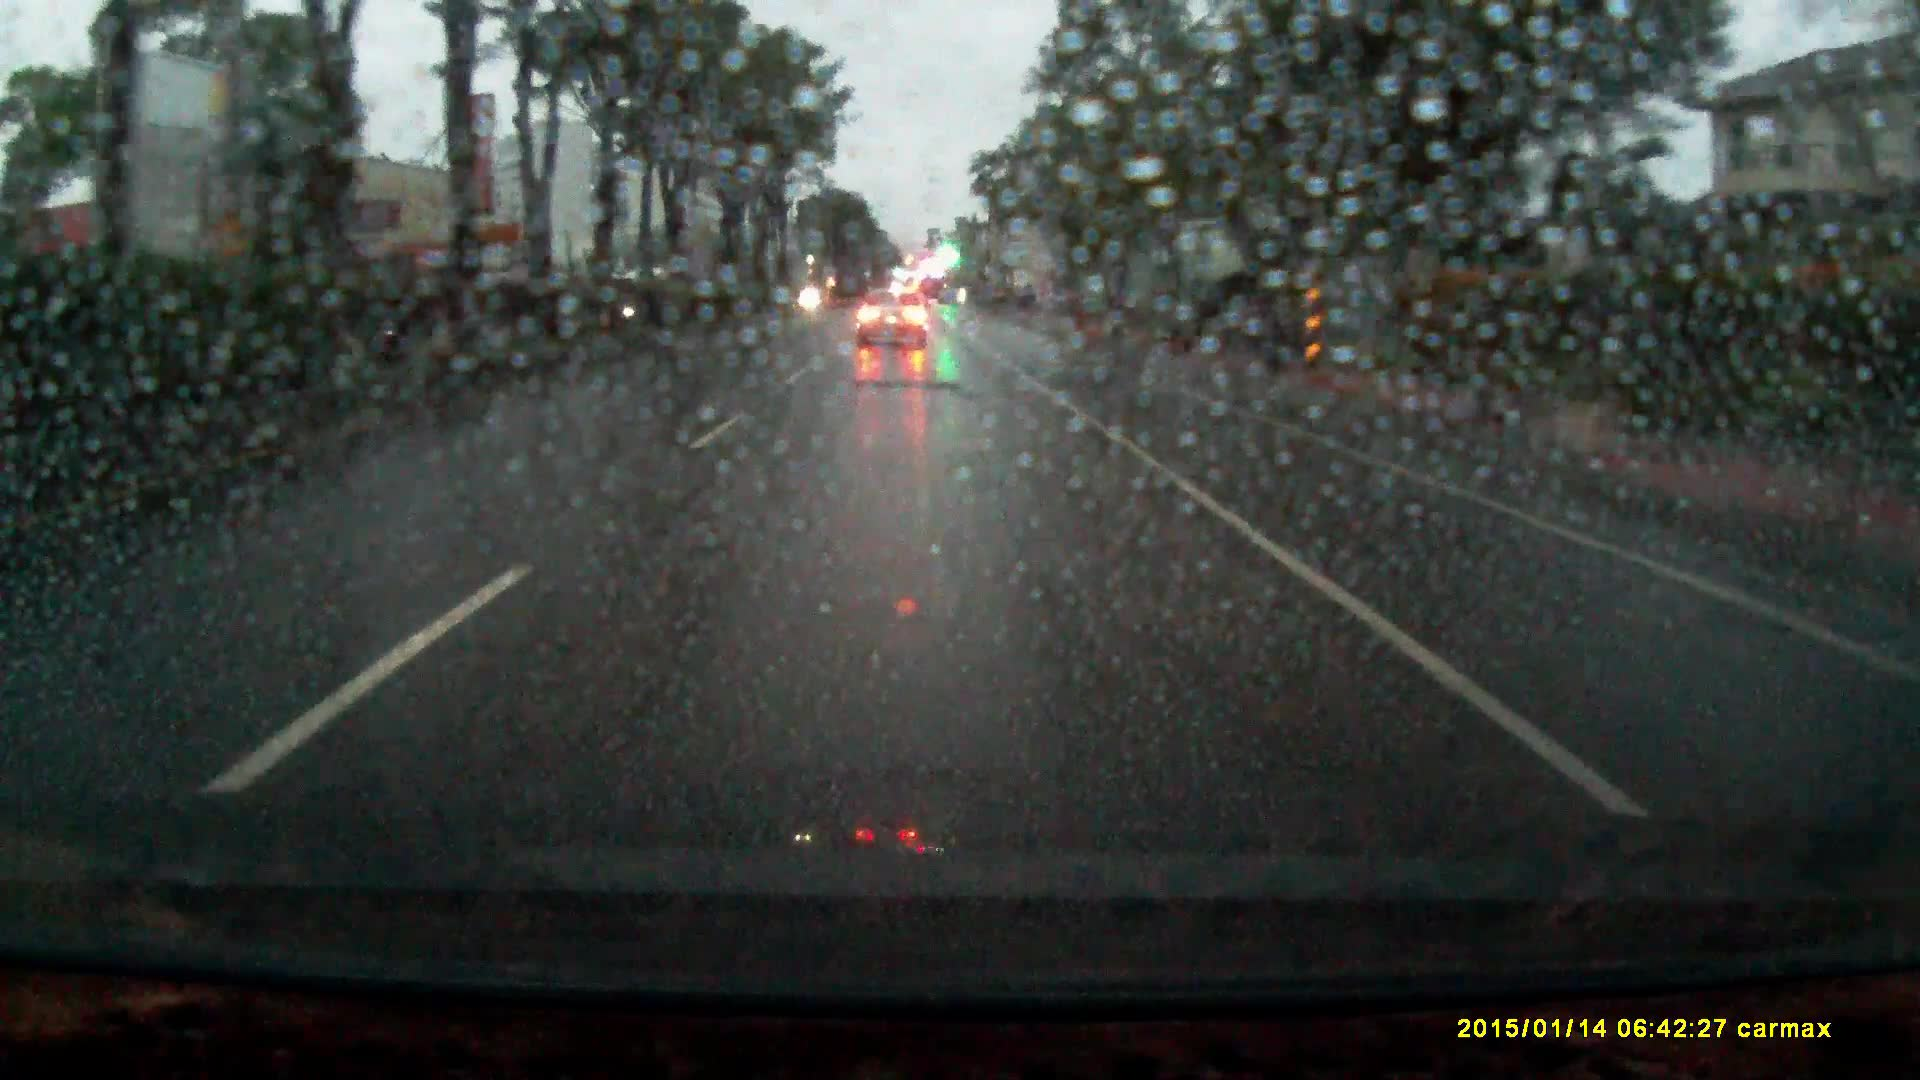vehicle: (856, 291, 928, 352)
